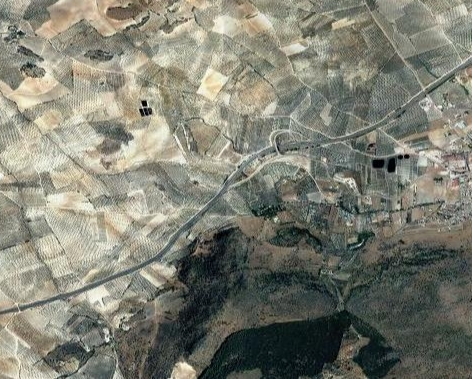motorway: (308, 45, 472, 172), (106, 209, 214, 294), (200, 126, 308, 211), (1, 262, 107, 338)
